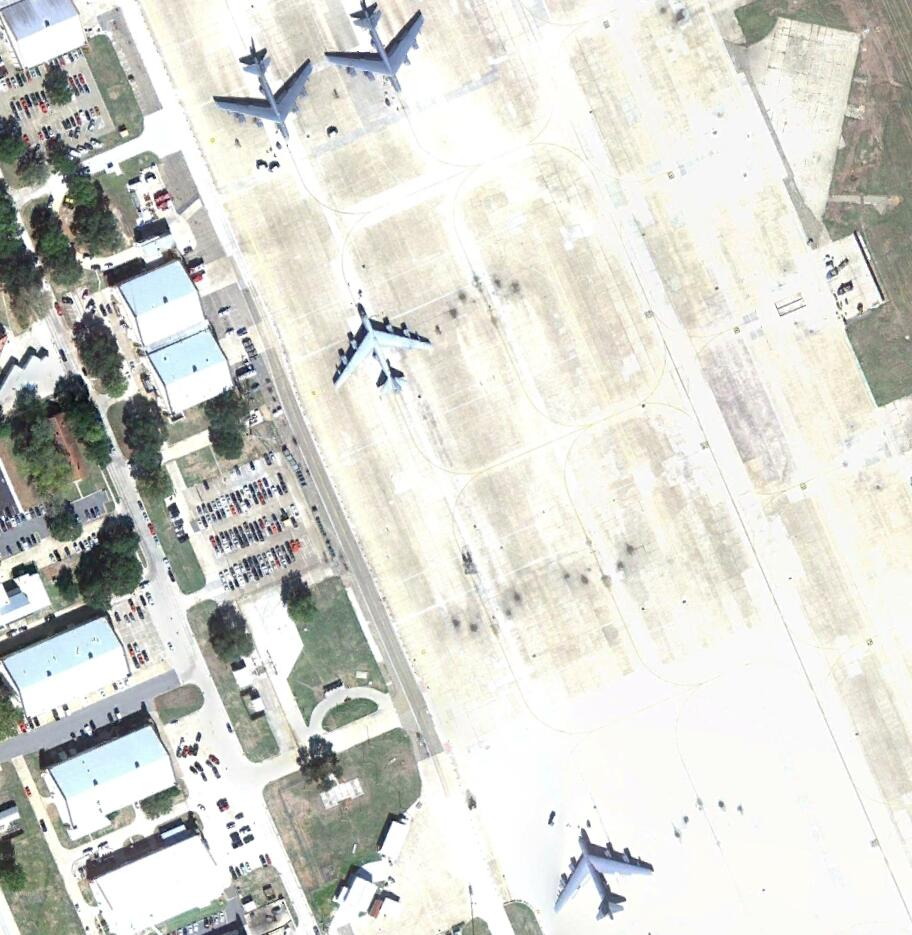A8: (208, 43, 314, 143), (329, 307, 439, 403), (547, 830, 657, 926), (324, 4, 431, 95)
